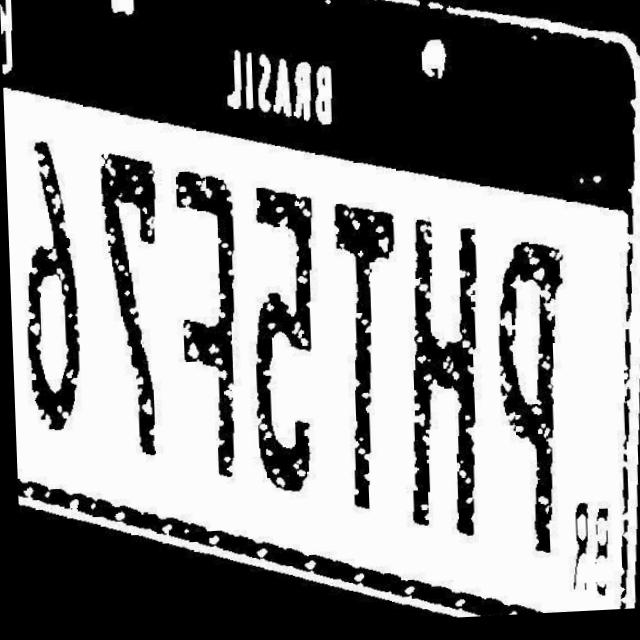5: (237, 187, 326, 501)
6: (15, 134, 94, 437)
7: (94, 150, 173, 469)
f: (166, 166, 245, 489)
h: (392, 215, 493, 547)
p: (482, 242, 576, 574)
t: (315, 201, 400, 515)
